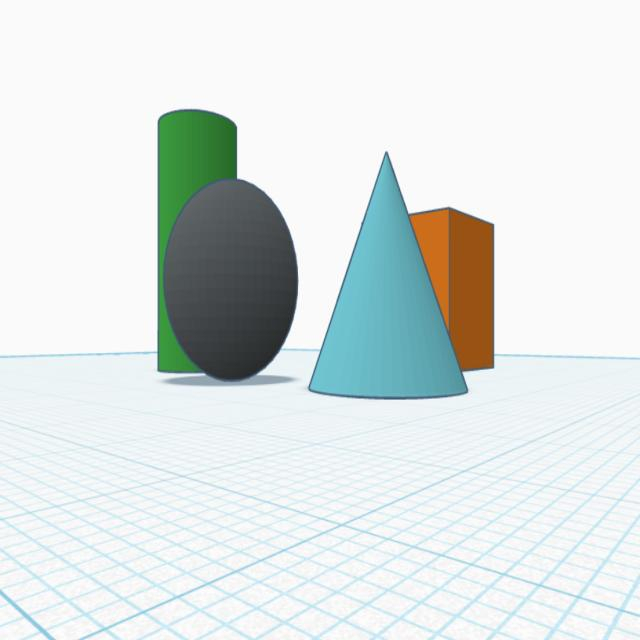cone: (309, 148, 469, 402)
sphere: (161, 176, 300, 387)
